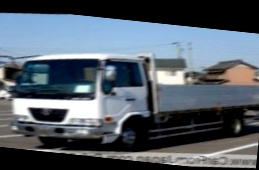truck: (0, 27, 259, 170)
